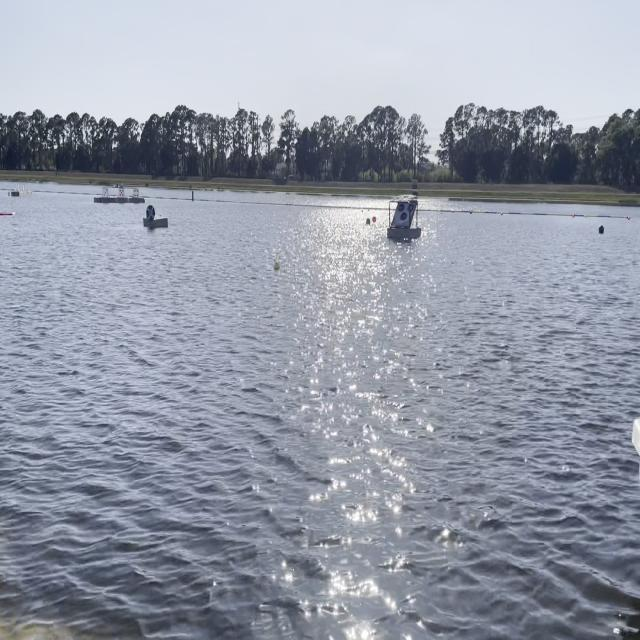buoy: (271, 260, 282, 272), (598, 224, 606, 237), (372, 214, 378, 224), (365, 217, 371, 226)
